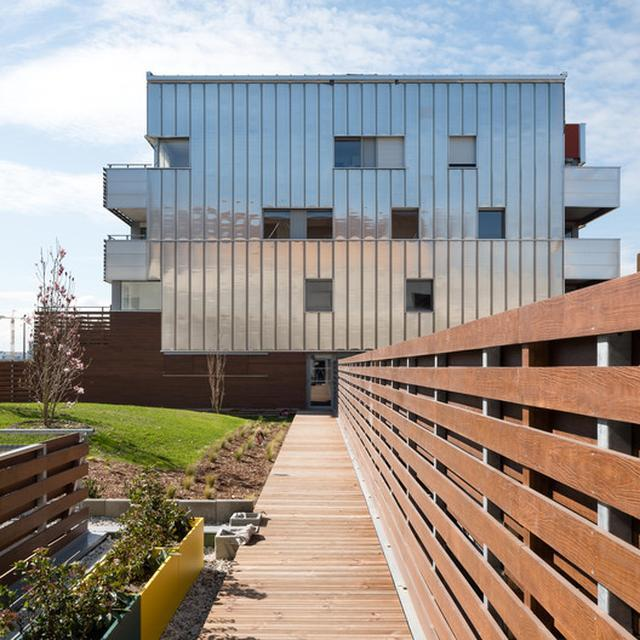building: (103, 72, 620, 410)
